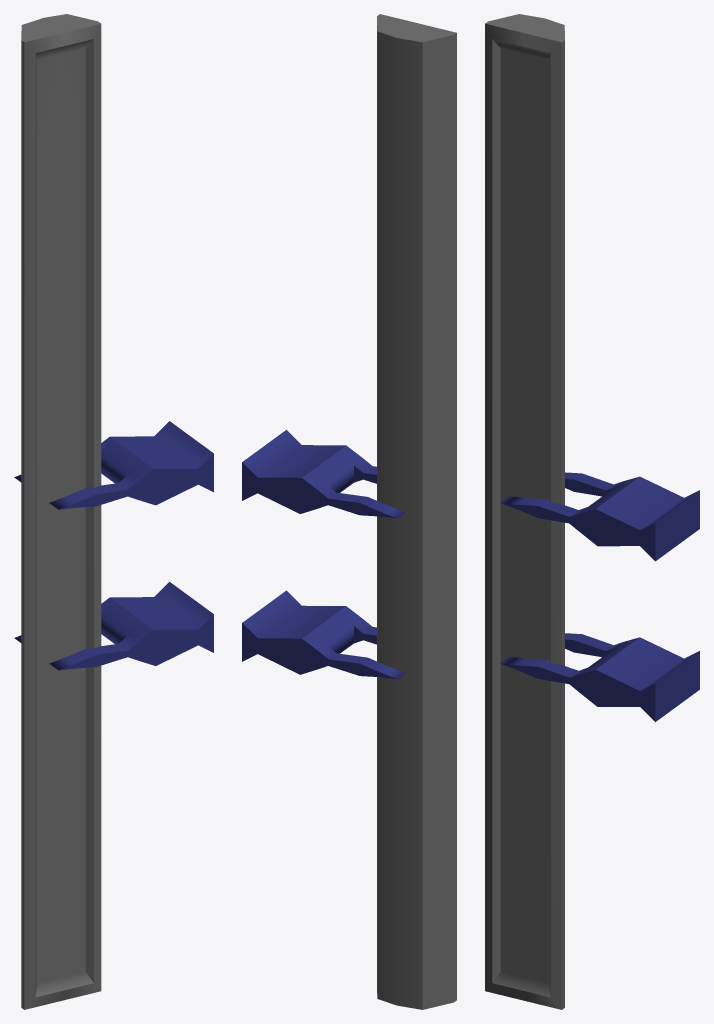
The model's file is Altitud.obj.
The picture shows the model from 3 angles, left to right: view 1: azimuth 30°, elevation 25°; view 2: azimuth 150°, elevation 25°; view 3: azimuth 330°, elevation 25°; orthographic projection.
Parts seen in each view (by area): view 1: pCube1, pCube3, pCube2; view 2: pCube1, pCube3, pCube2; view 3: pCube1, pCube3, pCube2.
Boxes of the visible parts, <box> form: pCube1: <box>21,14,101,1009</box>; pCube3: <box>14,421,213,509</box>; pCube2: <box>14,582,213,670</box>; pCube1: <box>377,14,456,1009</box>; pCube3: <box>242,430,405,518</box>; pCube2: <box>242,590,405,678</box>; pCube1: <box>485,14,564,1009</box>; pCube3: <box>500,472,699,561</box>; pCube2: <box>500,633,699,721</box>.
Bounding box in the file's own units: 2.34 × 12.04 × 1.
